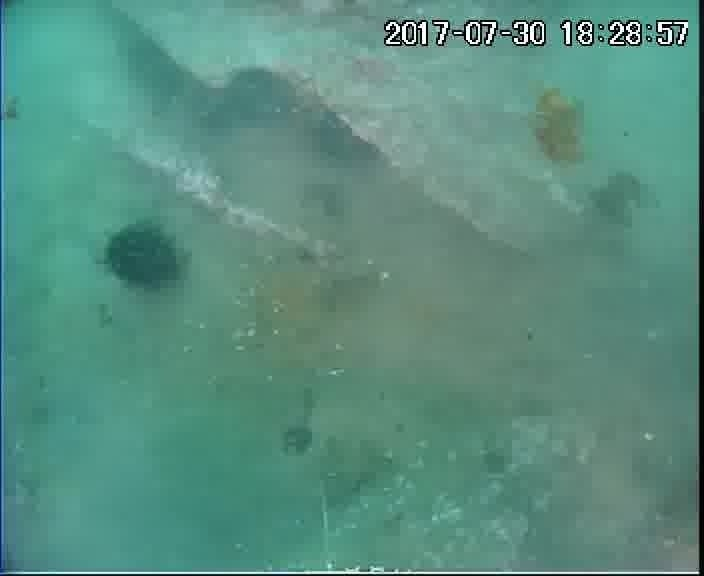echinus: (100, 219, 188, 297), (217, 63, 304, 133), (120, 34, 191, 108), (304, 107, 382, 174)
